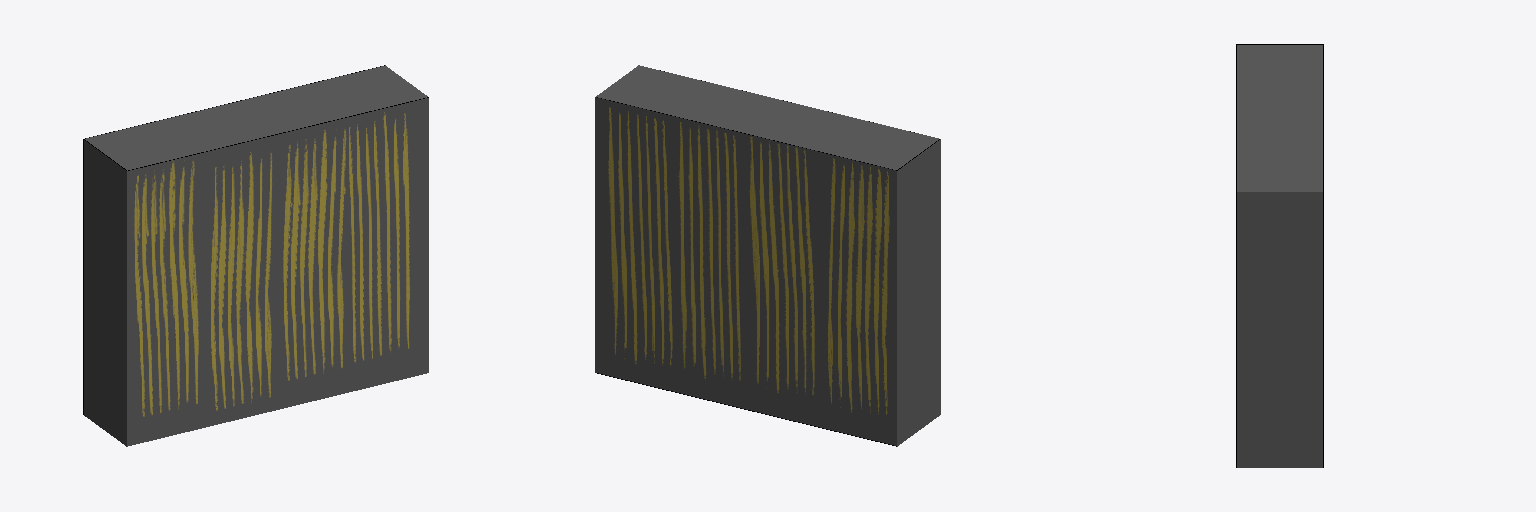
The picture shows the model from 3 angles: view 1: azimuth 30°, elevation 25°; view 2: azimuth 150°, elevation 25°; view 3: azimuth 270°, elevation 25°; orthographic projection.
Visible parts, largest first — view 1: door_section_Cube.006; view 2: door_section_Cube.006; view 3: door_section_Cube.006.
Part boxes in pixels (bbox=[...]): door_section_Cube.006: bbox=[83, 65, 428, 446]; door_section_Cube.006: bbox=[595, 65, 940, 446]; door_section_Cube.006: bbox=[1236, 44, 1323, 467].
Bounding box in the file's own units: 2 × 1.75 × 0.5.
Materials: 1 (1 with a texture image).